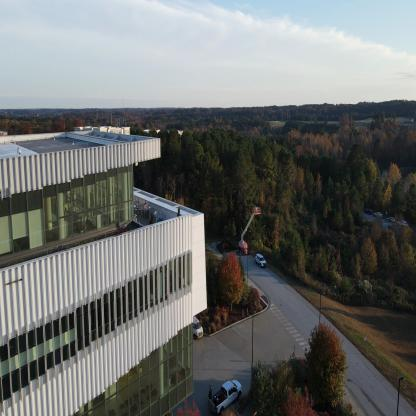Hunt Library: (0, 97, 239, 415)
